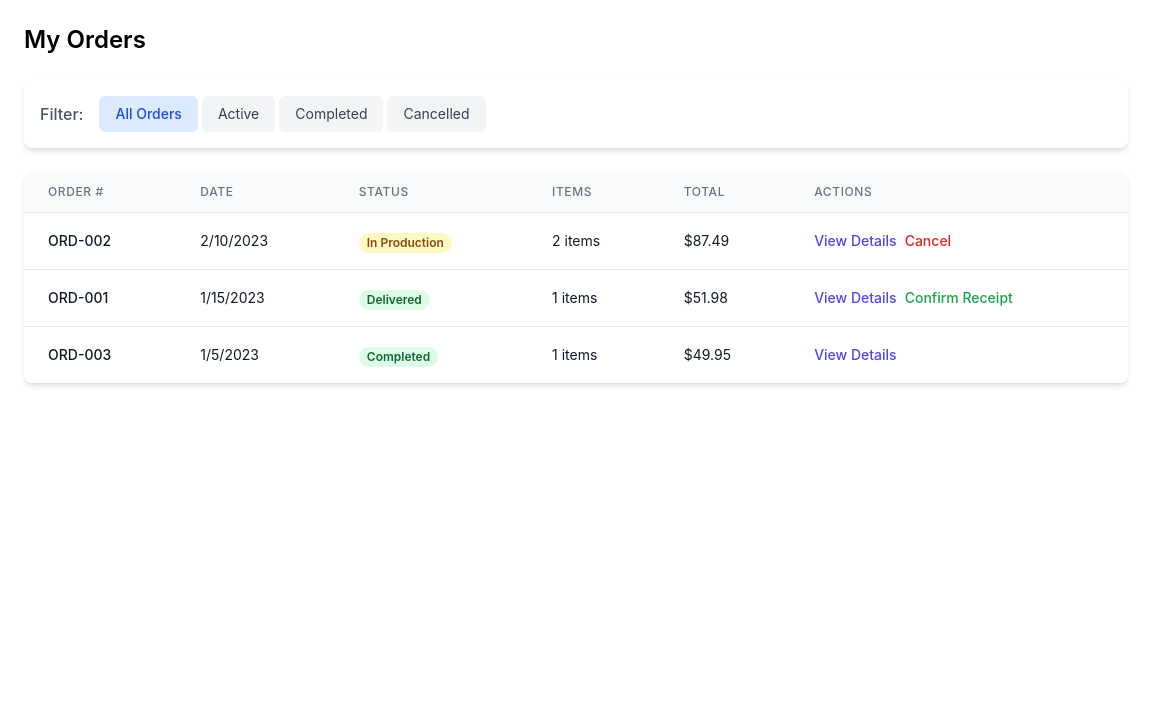
Test: OrdersList Component › closes modal when clicking the close button
expect the text "ORD-001" is shown: met, box left=48, top=289, right=108, bottom=306
Click the button "View Details" in the row of "ORD-001" at x=855, y=298, box left=814, top=288, right=897, bottom=308
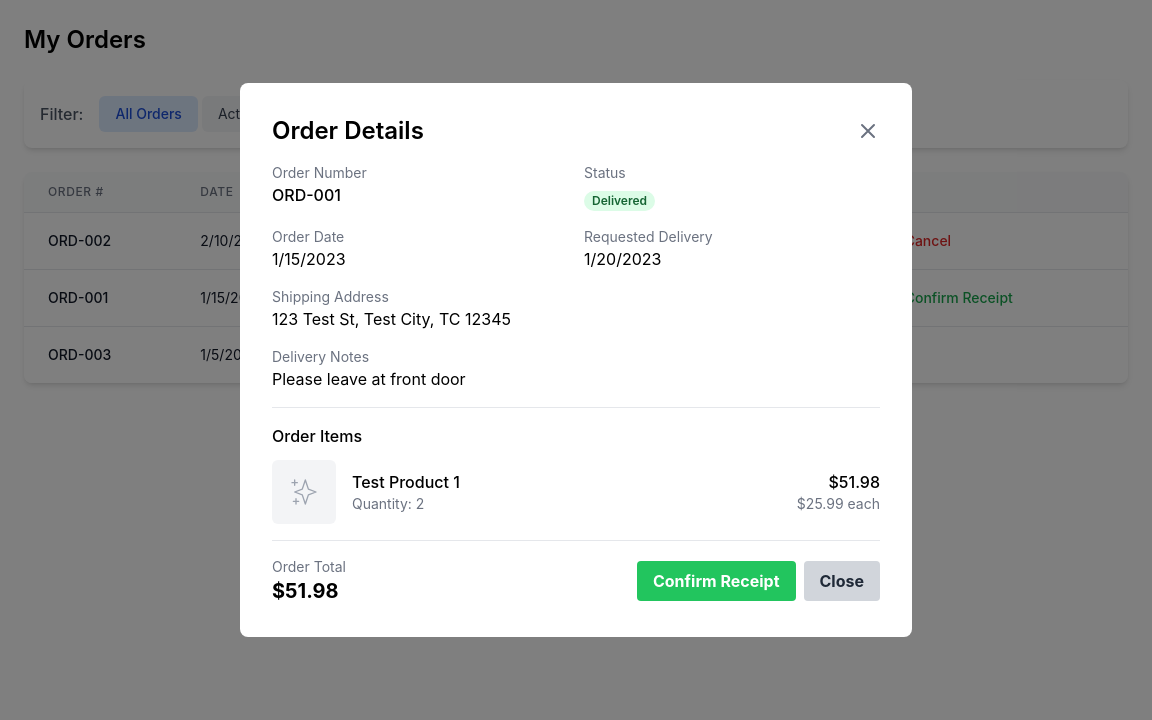
expect the heading "Order Details" is shown: met, box left=272, top=115, right=424, bottom=147
Click the button "Close" at x=842, y=581, box left=804, top=561, right=880, bottom=601
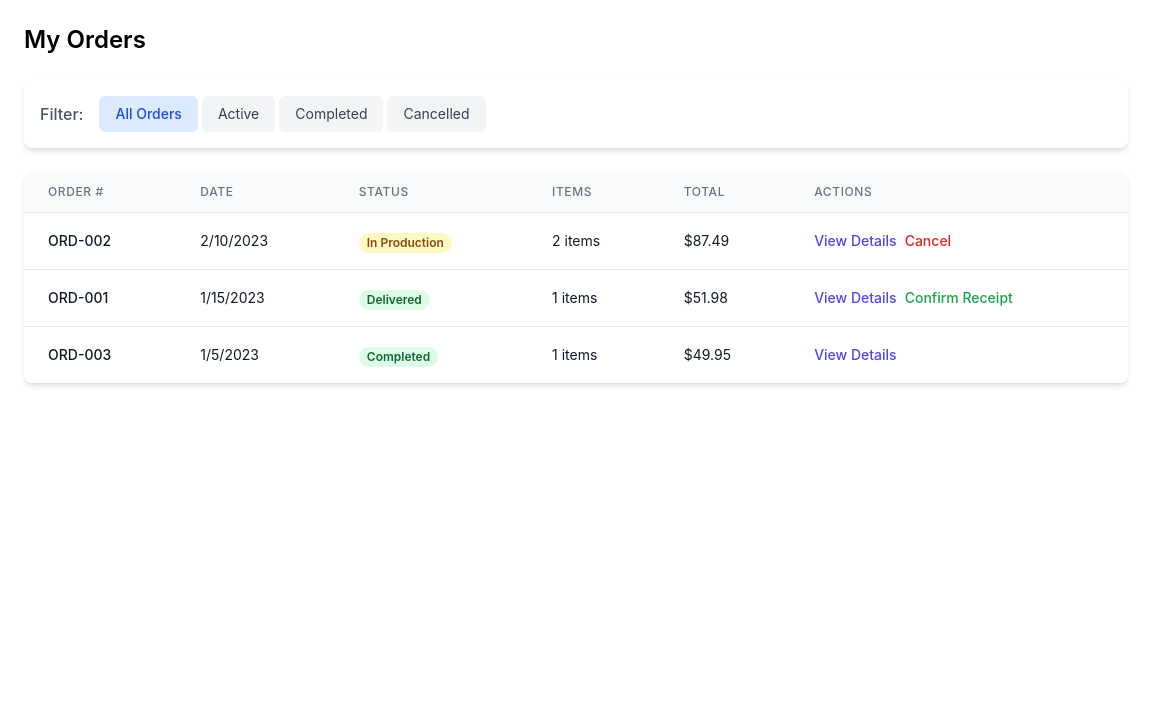
expect the heading "Order Details" is gone: met
